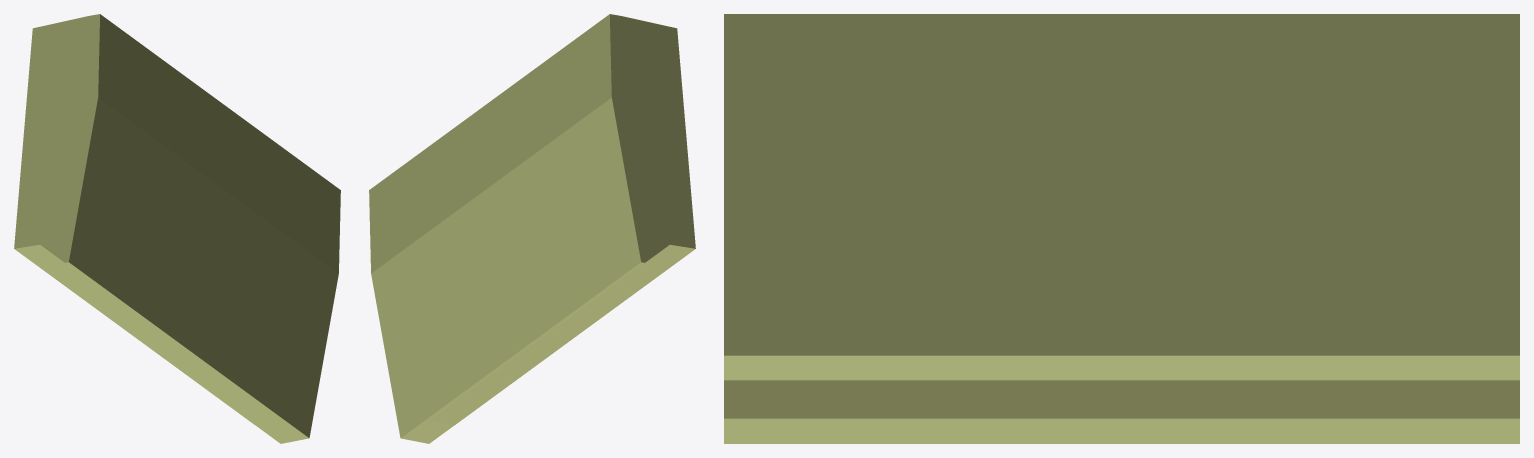
3 views of the same model, side by side, from view 1: azimuth 30°, elevation 25°; view 2: azimuth 150°, elevation 25°; view 3: azimuth 270°, elevation 25° (orthographic). The views are drawn at different scales.
Parts seen in each view (by area): view 1: 0_1_3_2_1_2_1_2_2_3; view 2: 0_1_3_2_1_2_1_2_2_3; view 3: 0_1_3_2_1_2_1_2_2_3.
Part boxes in pixels (x1,y1,x2,y2): 0_1_3_2_1_2_1_2_2_3: (14, 14, 340, 443); 0_1_3_2_1_2_1_2_2_3: (369, 14, 695, 443); 0_1_3_2_1_2_1_2_2_3: (724, 14, 1519, 443).
Bounding box in the file's own units: 1.86 × 5 × 9.
